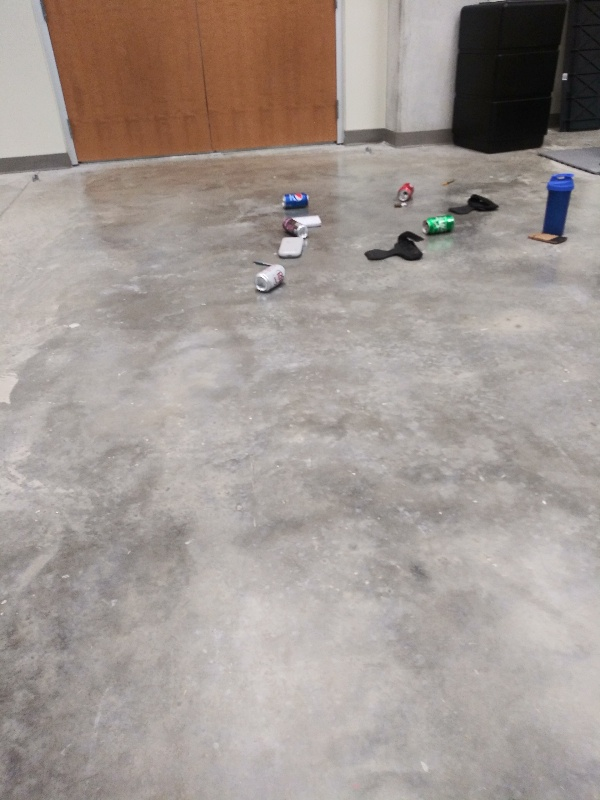can: (252, 262, 286, 292), (420, 214, 459, 236), (281, 215, 310, 238), (279, 191, 311, 210), (395, 181, 416, 203)
